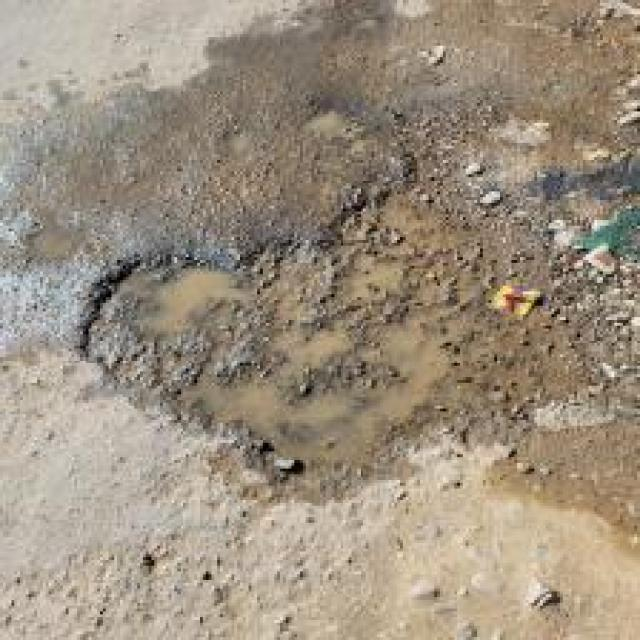BACHE: (76, 149, 599, 486)
